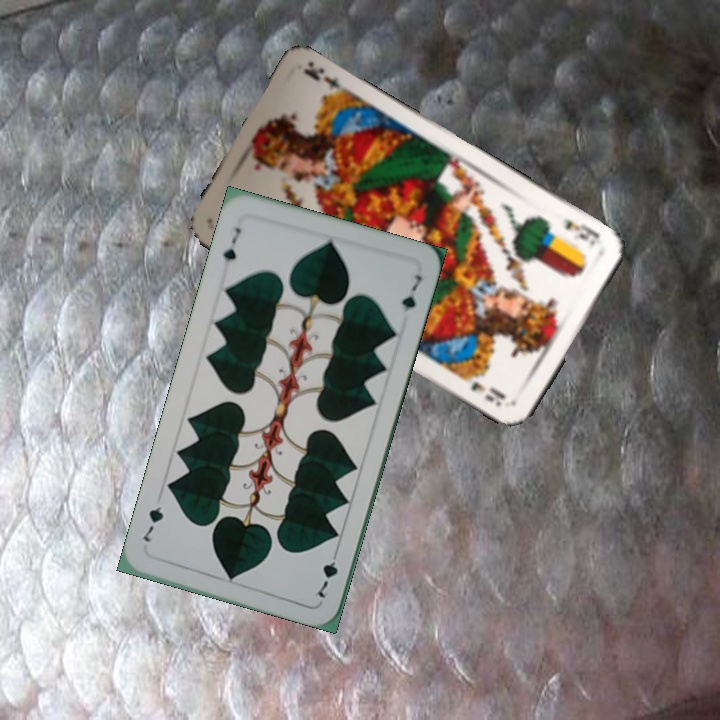EK: (559, 215, 606, 250)
G7: (313, 545, 341, 601), (218, 223, 244, 265)
